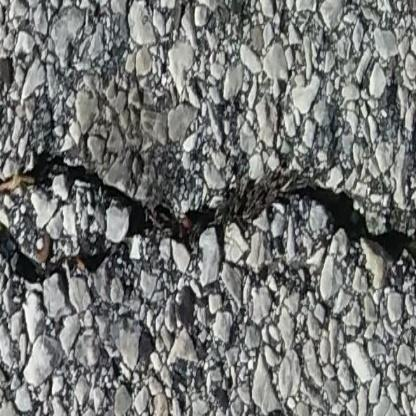Cracks: (0, 152, 416, 311)
